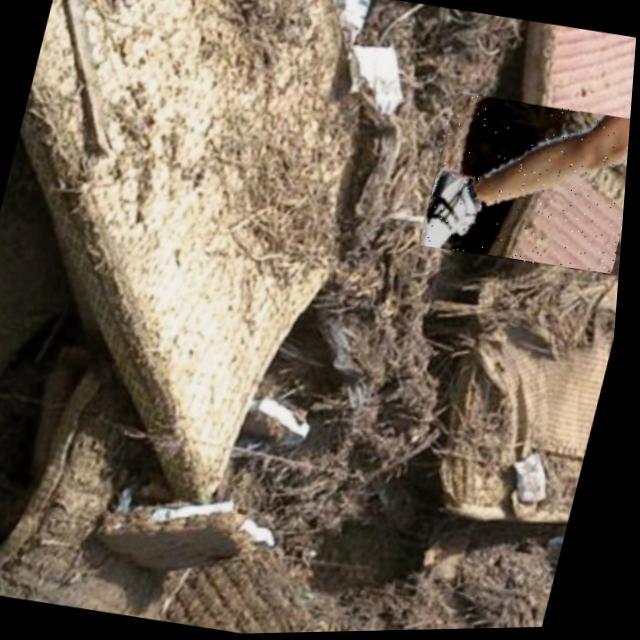Person in Rubble: (418, 90, 634, 280)
